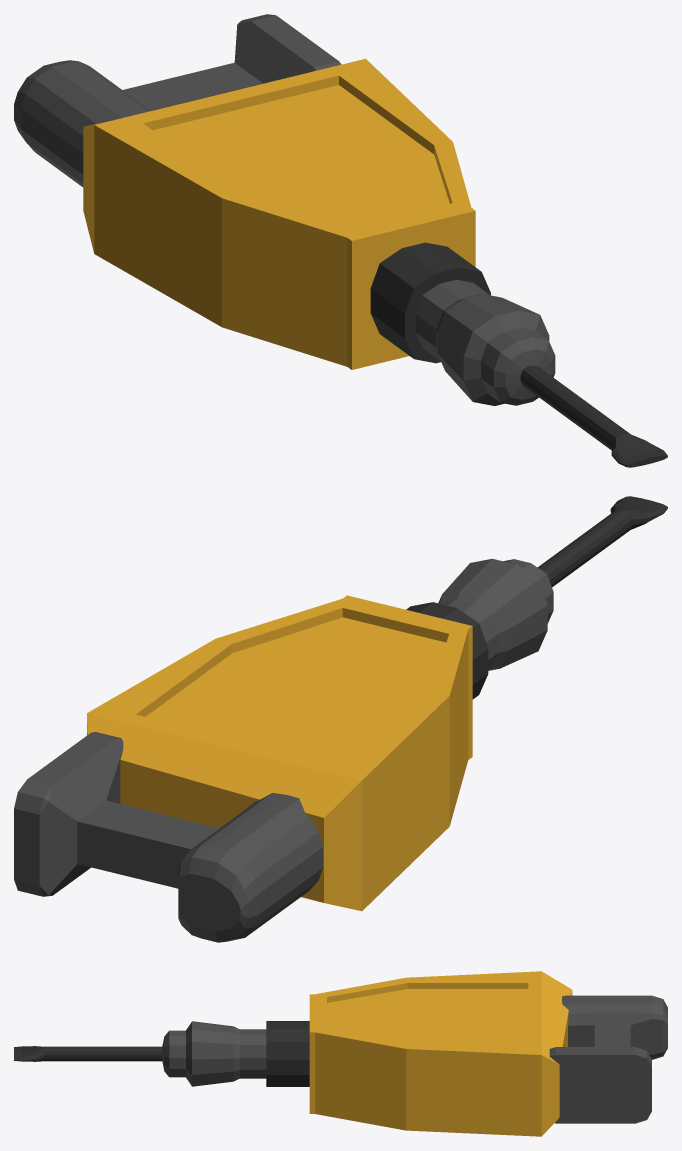
3 renders of one model, top to bottom at view 1: azimuth 30°, elevation 25°; view 2: azimuth 150°, elevation 25°; view 3: azimuth 270°, elevation 25°, orthographic. The views are drawn at different scales.
Parts seen in each view (by area): view 1: F-37; view 2: F-37; view 3: F-37.
Part boxes in pixels (x1,y1,x2,y2): F-37: (14,14,667,467); F-37: (14,496,667,942); F-37: (14,971,667,1136).
Size of the model in its own units: 64.08 by 29.12 by 211.
